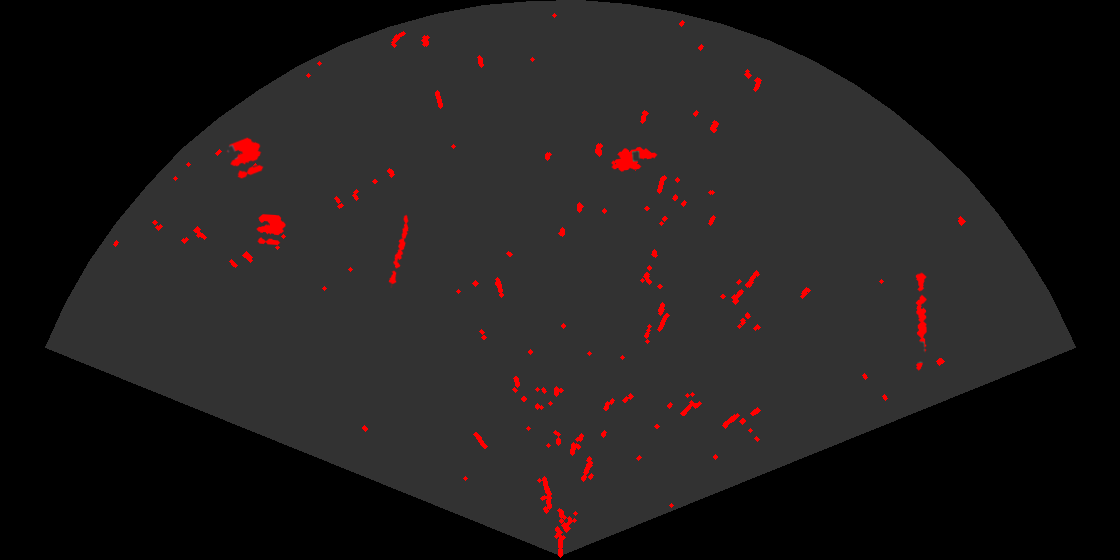AUV: (610, 145, 659, 173)
ball: (225, 136, 265, 180), (255, 213, 287, 247)
chain: (387, 213, 410, 288), (914, 271, 928, 372)
